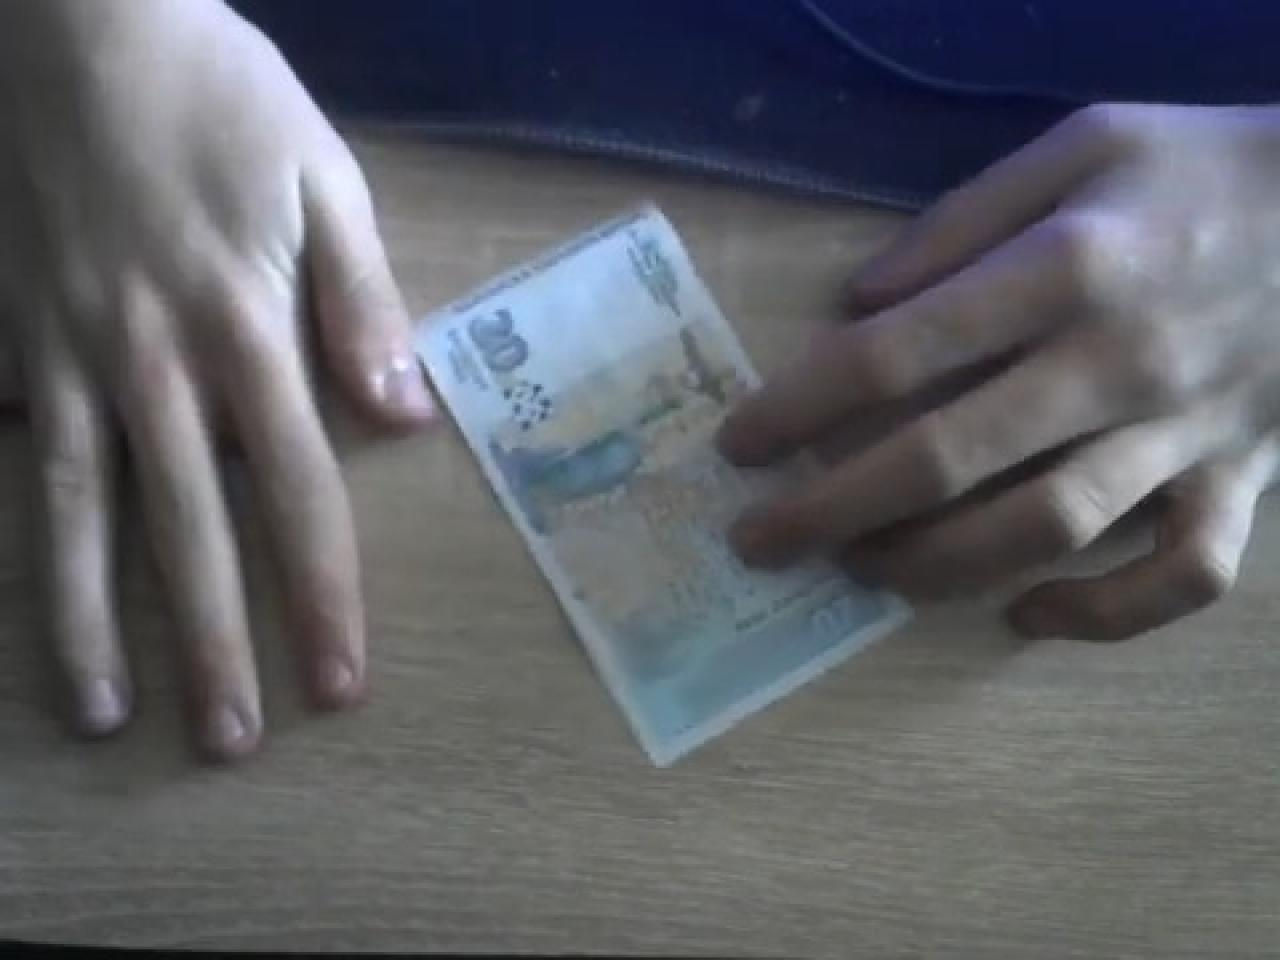20leva: (408, 195, 917, 768)
